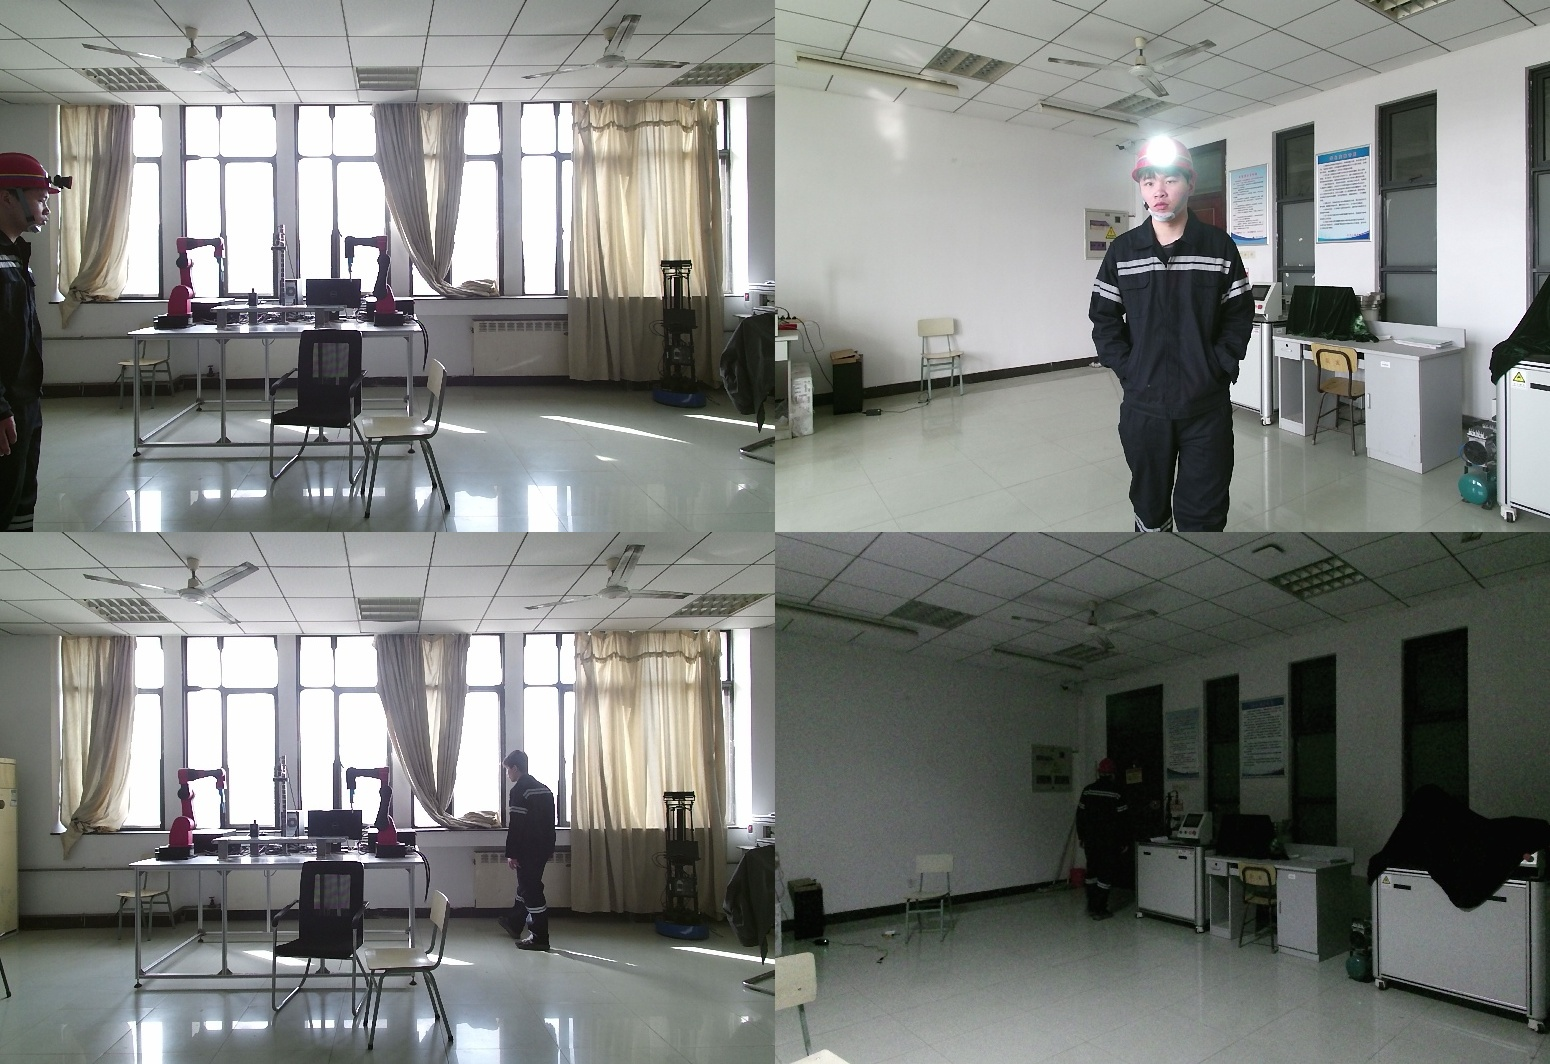person: (1089, 136, 1264, 532), (1, 152, 76, 532), (497, 748, 563, 955), (1071, 760, 1134, 931)
